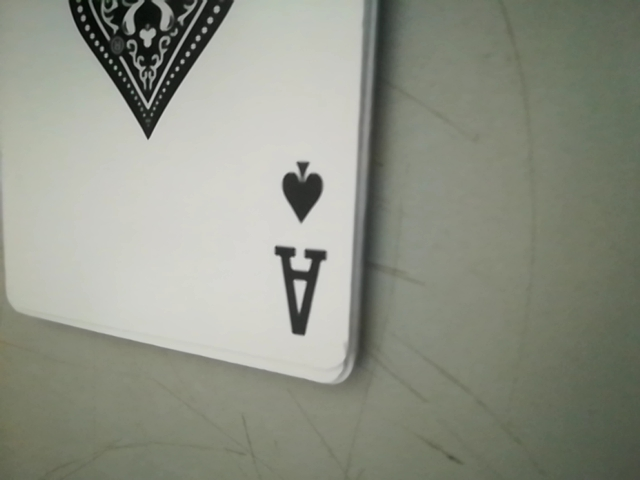ht a: (273, 160, 340, 353)
